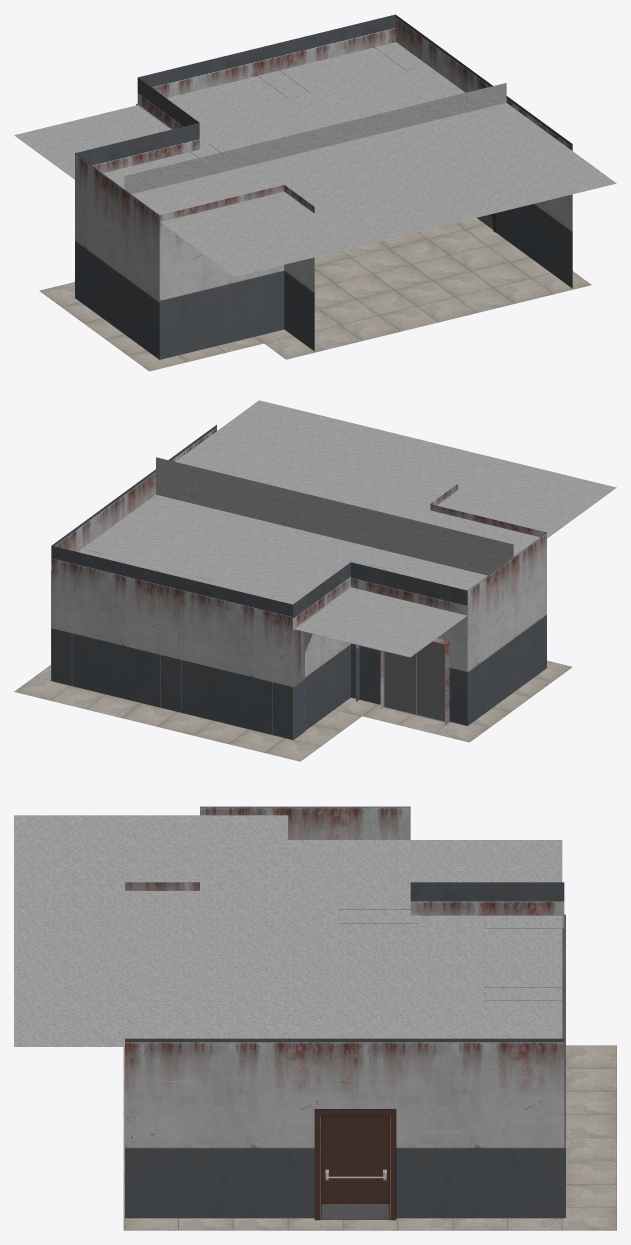
File: ALL Section 2 Past.fbx
3 views of the same model, one above another, from view 1: azimuth 30°, elevation 25°; view 2: azimuth 150°, elevation 25°; view 3: azimuth 270°, elevation 25° (orthographic). The views are drawn at different scales.
Visible parts, largest first — view 1: Pillar1, Walls; view 2: Pillar1, Walls, Door3; view 3: Pillar1, Walls, Door2, DoorFrame.
Boxes of the visible parts, x1,y1,x2,y2 form: Pillar1: (14, 41, 616, 371); Walls: (75, 14, 572, 359); Pillar1: (14, 400, 616, 761); Walls: (51, 425, 546, 739); Door3: (383, 641, 448, 722); Pillar1: (14, 815, 616, 1230); Walls: (125, 806, 564, 1218); Door2: (321, 1116, 389, 1219); DoorFrame: (314, 1109, 396, 1220).
Size of the model in its own units: 1100 by 400 by 1100.
